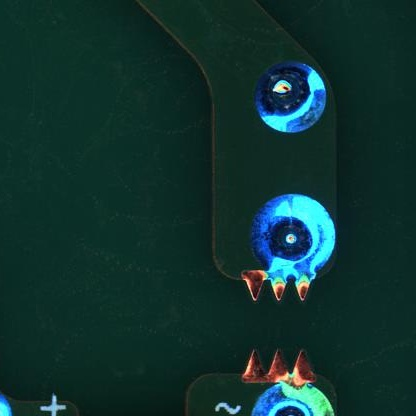spot: (250, 193, 335, 274), (254, 60, 328, 137), (250, 380, 336, 416)
